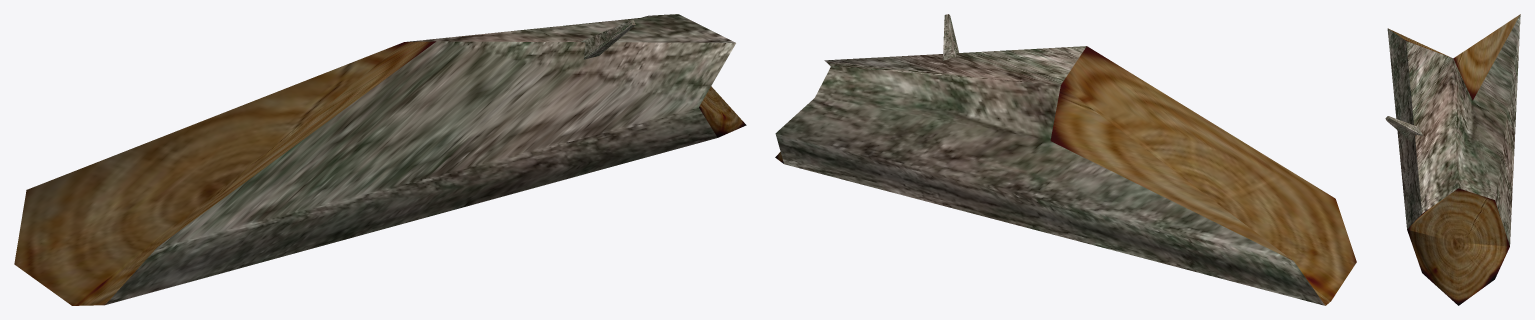
File: gen_log05.fbx
The picture shows the model from 3 angles, left to right: view 1: azimuth 30°, elevation 25°; view 2: azimuth 150°, elevation 25°; view 3: azimuth 270°, elevation 25°; orthographic projection. The views are drawn at different scales.
Parts seen in each view (by area): view 1: lod_high; view 2: lod_high; view 3: lod_high.
Boxes of the visible parts, x1,y1,x2,y2 form: lod_high: (14, 14, 746, 305); lod_high: (775, 14, 1356, 305); lod_high: (1385, 14, 1520, 305).
Size of the model in its own units: 830 by 234 by 189.
1 material, 1 textured.
